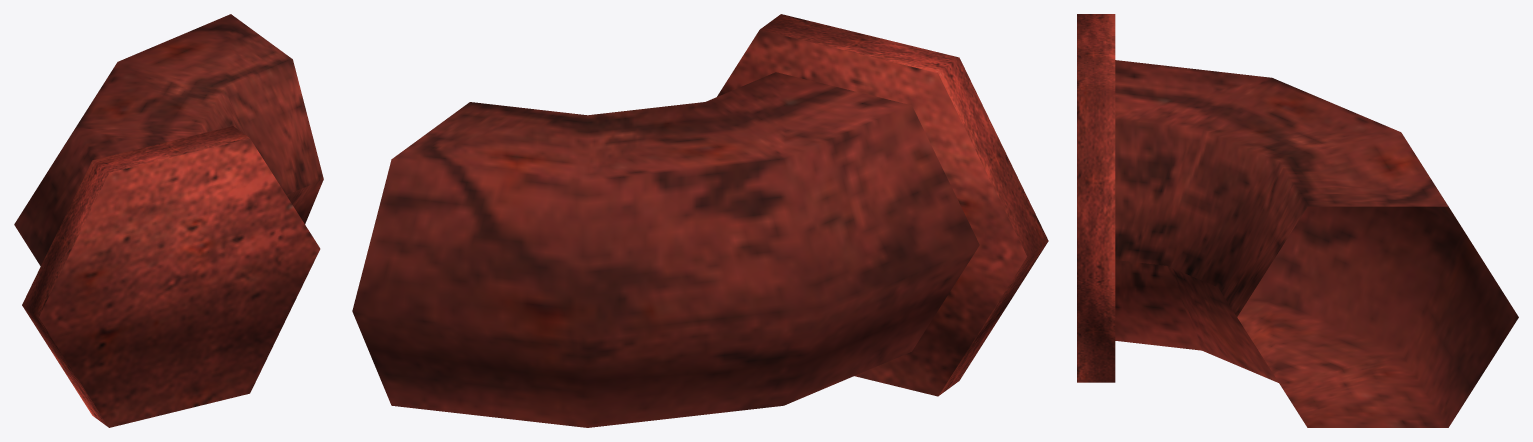
The model's file is small_red_2_elbow_hz.fbx.
3 renders of one model, left to right at view 1: azimuth 30°, elevation 25°; view 2: azimuth 150°, elevation 25°; view 3: azimuth 270°, elevation 25°, orthographic. The views are drawn at different scales.
Parts seen in each view (by area): view 1: polySurface638; view 2: polySurface638; view 3: polySurface638.
Part boxes in pixels (left/top/right/bottom): polySurface638: left=14, top=14, right=323, bottom=427; polySurface638: left=352, top=14, right=1048, bottom=427; polySurface638: left=1077, top=14, right=1518, bottom=427.
Size of the model in its own units: 0.8281 by 0.5683 by 0.7841.
